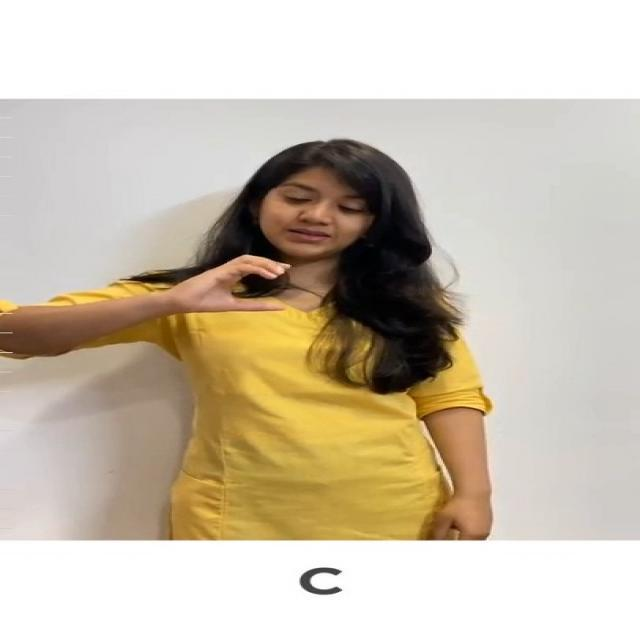c: (161, 250, 302, 327)
